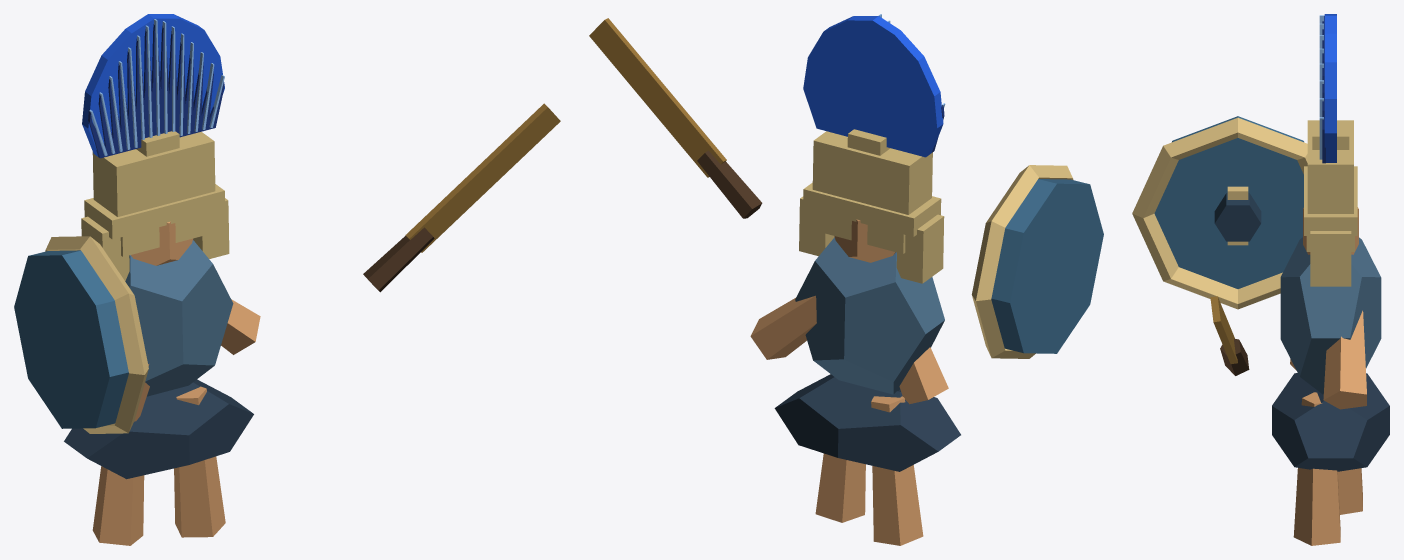
Rendered from romanSoldier_gladius_blue.glb.
3 renders of one model, left to right at view 1: azimuth 30°, elevation 25°; view 2: azimuth 150°, elevation 25°; view 3: azimuth 270°, elevation 25°, orthographic. The views are drawn at different scales.
Visible parts, largest first — view 1: n33, soldier-helm, n3, n5, soldier-crest, soldier-crest-feathers, soldier-crest-stems, n35, n53, n24, n27, n51 (+2 smaller); view 2: soldier-helm, n33, n3, soldier-crest, n5, n53, n35, n27, n24, n21, n51, n18 (+1 smaller); view 3: n33, n3, n35, n5, soldier-helm, n24, n21, soldier-crest, shield-boss, n27, n53, soldier-crest-stems (+3 smaller).
Boxes of the visible parts, x1,y1,x2,y2 form: n33: (14, 250, 128, 428); soldier-helm: (81, 131, 229, 280); n3: (125, 240, 233, 396); n5: (64, 379, 253, 479); soldier-crest: (82, 14, 224, 156); soldier-crest-feathers: (88, 24, 224, 158); soldier-crest-stems: (89, 19, 224, 156); n35: (45, 236, 148, 433); n53: (405, 103, 560, 252); n24: (174, 386, 225, 537); n27: (92, 466, 144, 545); n51: (363, 227, 434, 292); soldier-helm: (799, 129, 944, 283); n33: (991, 179, 1103, 353); n3: (795, 237, 944, 394); soldier-crest: (803, 16, 943, 157); n5: (774, 374, 960, 471); n53: (589, 18, 726, 177); n35: (971, 165, 1073, 358); n27: (871, 396, 923, 545); n24: (815, 453, 865, 522); n21: (750, 295, 816, 359); n51: (697, 150, 762, 218); n18: (899, 347, 948, 404); n33: (1154, 116, 1303, 288); n3: (1280, 237, 1381, 394); n35: (1132, 117, 1307, 309); n5: (1272, 373, 1389, 471); soldier-helm: (1304, 120, 1357, 286); n24: (1293, 392, 1340, 545); n21: (1323, 310, 1366, 409); soldier-crest: (1324, 14, 1336, 162); shield-boss: (1214, 193, 1261, 241); n27: (1338, 468, 1362, 514); n53: (1210, 296, 1237, 364); soldier-crest-stems: (1319, 15, 1323, 159).
Size of the model in its own units: 1.17 by 1.2 by 0.555.
